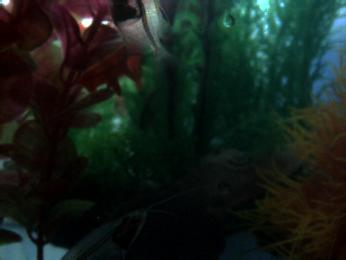X-ray fish: (109, 1, 183, 79)
glassfish: (57, 207, 151, 260)
